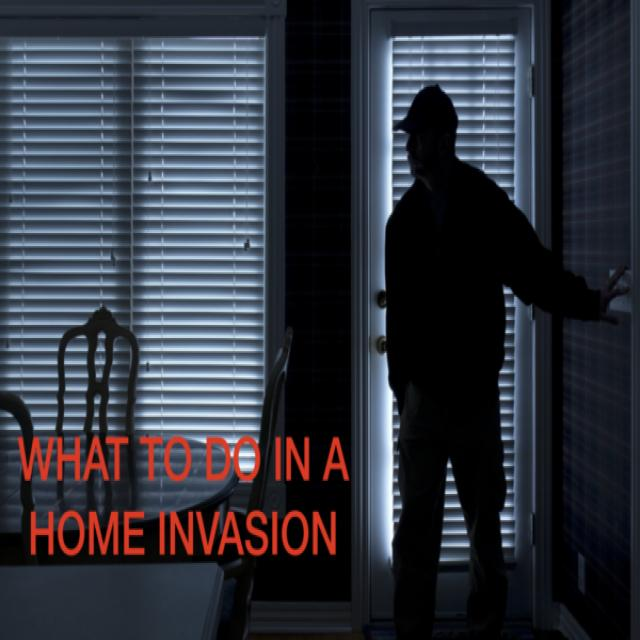intrusion detected: (382, 88, 579, 640)
